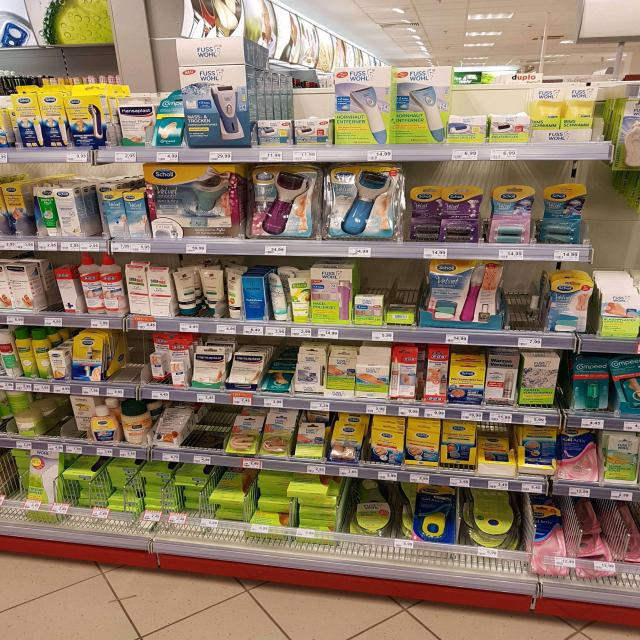void: (507, 274, 545, 331), (392, 262, 421, 304), (207, 407, 230, 450)
